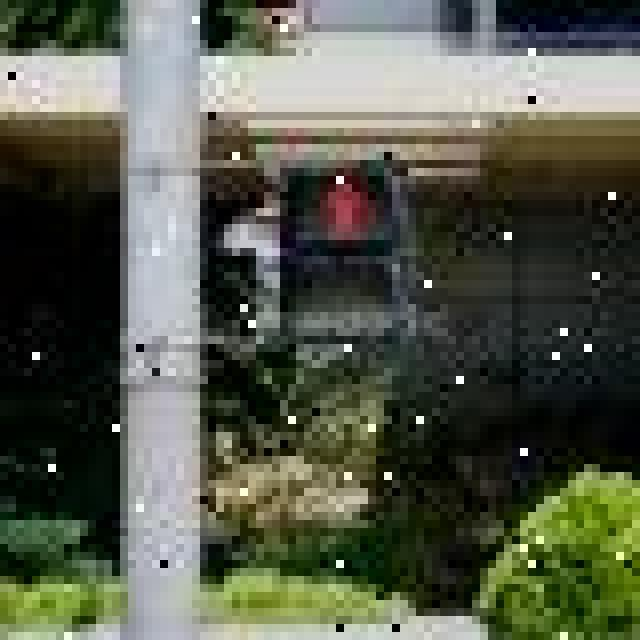redlight: (283, 159, 423, 339)
